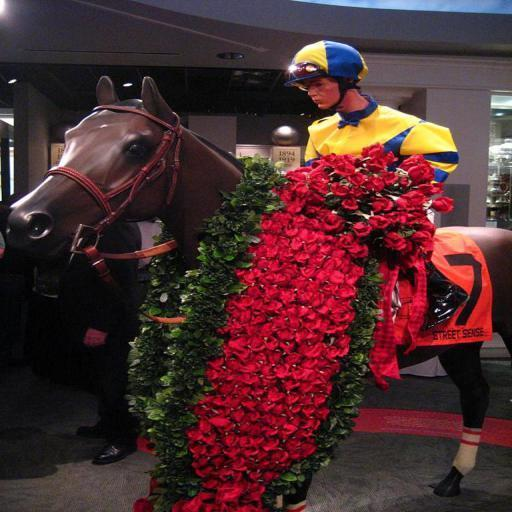horse: (6, 72, 511, 512)
